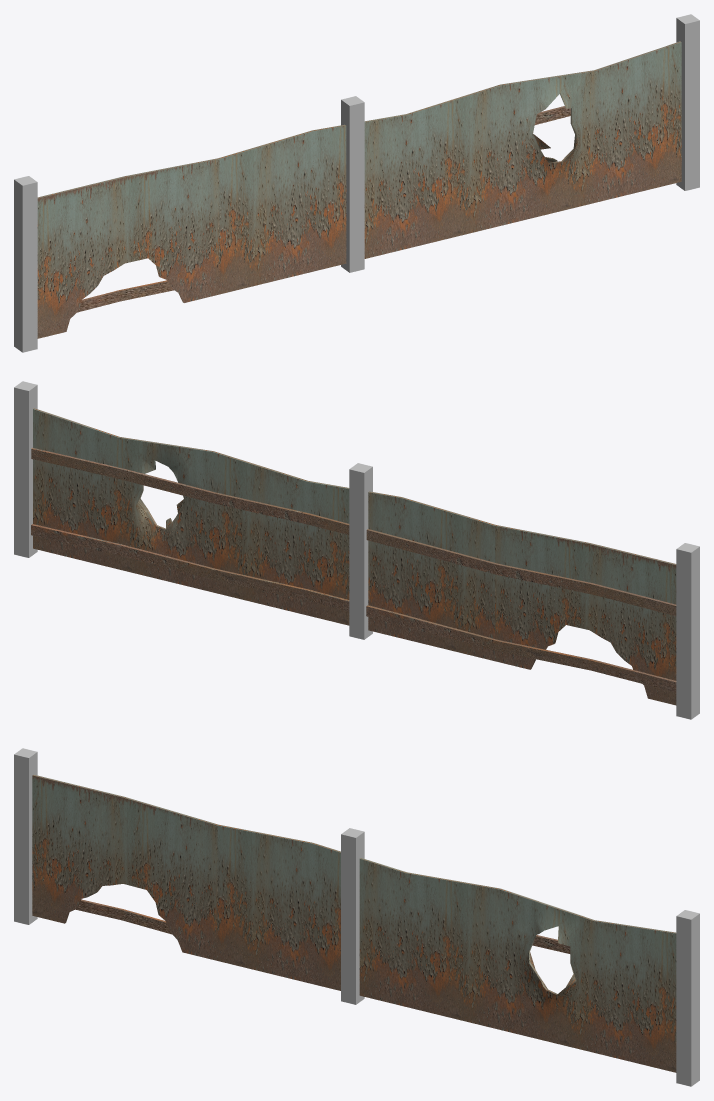
The model's file is fence3.fbx.
The picture shows the model from 3 angles, top to bottom: view 1: azimuth 30°, elevation 25°; view 2: azimuth 150°, elevation 25°; view 3: azimuth 330°, elevation 25°; orthographic projection.
Parts seen in each view (by area): view 1: Mesh Object; view 2: Mesh Object; view 3: Mesh Object.
Boxes of the visible parts, <box> form: Mesh Object: <box>14,14,699,352</box>; Mesh Object: <box>14,381,699,719</box>; Mesh Object: <box>14,748,699,1086</box>.
Bounding box in the file's own units: 10.65 × 2.51 × 0.3257.
